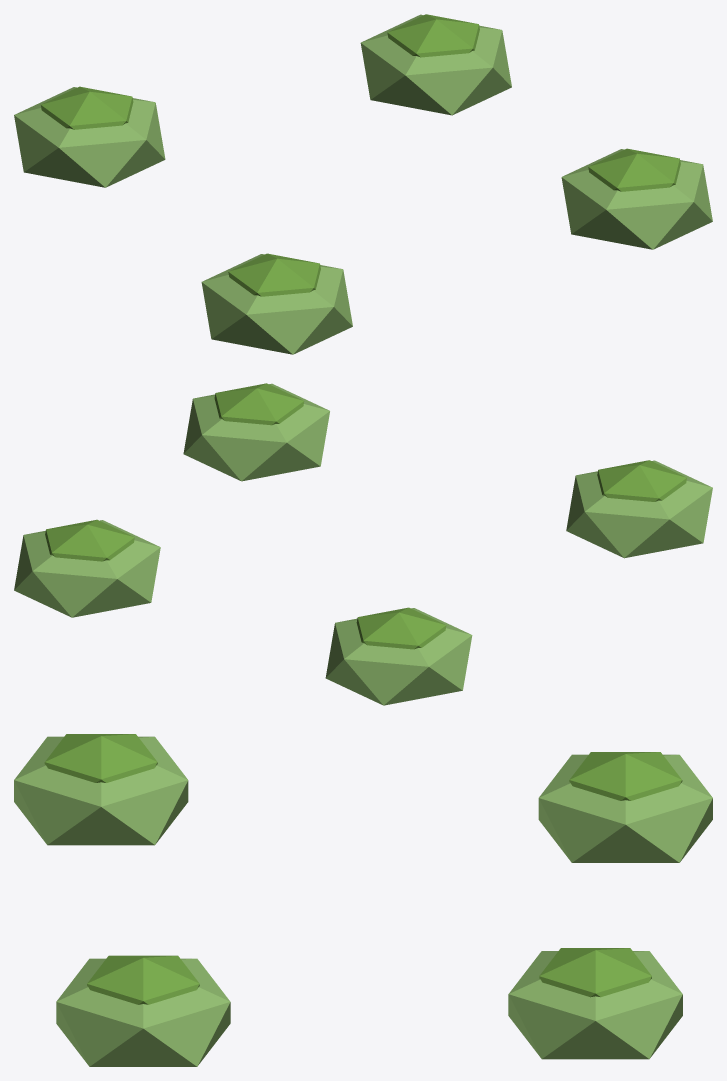
File: crop_cabbage_grown.glb
The picture shows the model from 3 angles, top to bottom: view 1: azimuth 30°, elevation 25°; view 2: azimuth 150°, elevation 25°; view 3: azimuth 270°, elevation 25°; orthographic projection. The views are drawn at different scales.
Parts seen in each view (by area): view 1: crop_cabbage_grown; view 2: crop_cabbage_grown; view 3: crop_cabbage_grown.
Boxes of the visible parts, <box> form: crop_cabbage_grown: <box>14,14,712,354</box>; crop_cabbage_grown: <box>14,383,712,705</box>; crop_cabbage_grown: <box>14,734,712,1066</box>.
Bounding box in the file's own units: 1.17 × 0.194 × 1.16.
